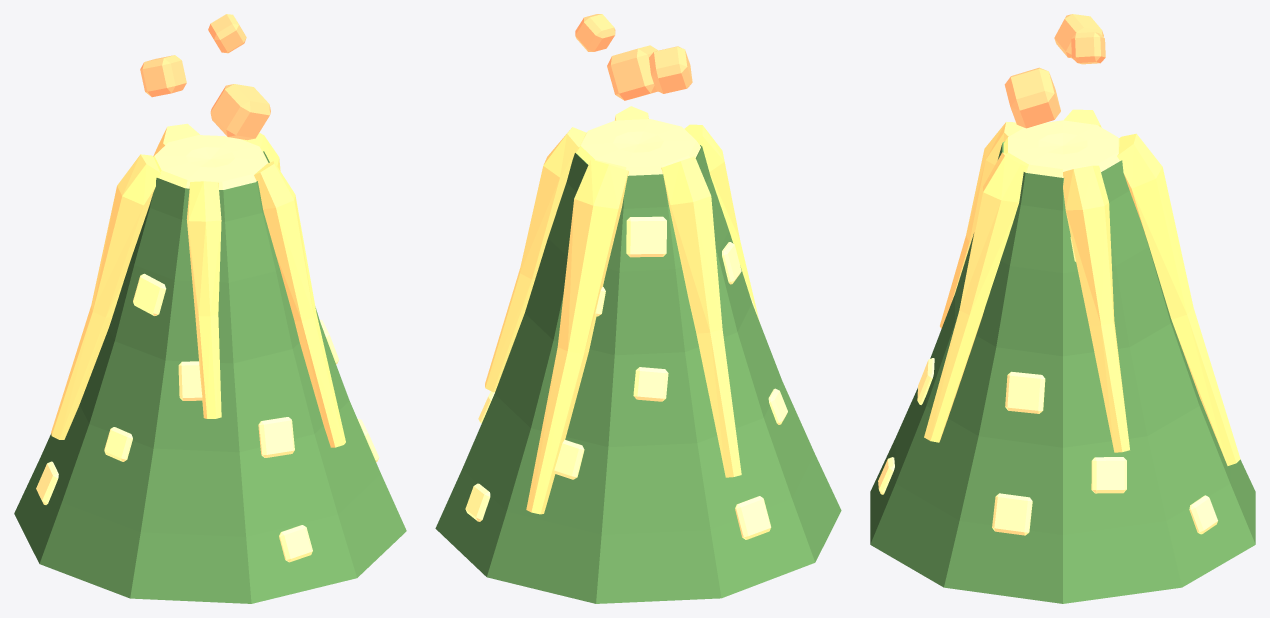
The model's file is VolcanoVolcanoCucumber.fbx.
3 renders of one model, left to right at view 1: azimuth 30°, elevation 25°; view 2: azimuth 150°, elevation 25°; view 3: azimuth 270°, elevation 25°, orthographic. The views are drawn at different scales.
Visible parts, largest first — view 1: VolcanoVolcanoCucumber.Cone, VolcanoVolcanoCucumber.Flows, VolcanoVolcanoCucumber.Studs, VolcanoVolcanoCucumber.Ejecta, VolcanoVolcanoCucumber.Crater; view 2: VolcanoVolcanoCucumber.Cone, VolcanoVolcanoCucumber.Flows, VolcanoVolcanoCucumber.Studs, VolcanoVolcanoCucumber.Crater, VolcanoVolcanoCucumber.Ejecta; view 3: VolcanoVolcanoCucumber.Cone, VolcanoVolcanoCucumber.Flows, VolcanoVolcanoCucumber.Studs, VolcanoVolcanoCucumber.Crater, VolcanoVolcanoCucumber.Ejecta.
Part boxes in pixels (bbox=[...]): VolcanoVolcanoCucumber.Cone: bbox=[14, 151, 406, 603]; VolcanoVolcanoCucumber.Flows: bbox=[51, 123, 345, 447]; VolcanoVolcanoCucumber.Studs: bbox=[36, 273, 379, 562]; VolcanoVolcanoCucumber.Ejecta: bbox=[140, 14, 270, 140]; VolcanoVolcanoCucumber.Crater: bbox=[153, 135, 268, 189]; VolcanoVolcanoCucumber.Cone: bbox=[435, 145, 841, 603]; VolcanoVolcanoCucumber.Flows: bbox=[485, 106, 758, 514]; VolcanoVolcanoCucumber.Studs: bbox=[465, 216, 787, 539]; VolcanoVolcanoCucumber.Crater: bbox=[576, 119, 700, 175]; VolcanoVolcanoCucumber.Ejecta: bbox=[575, 14, 692, 100]; VolcanoVolcanoCucumber.Cone: bbox=[870, 141, 1255, 603]; VolcanoVolcanoCucumber.Flows: bbox=[924, 109, 1240, 465]; VolcanoVolcanoCucumber.Studs: bbox=[878, 237, 1217, 535]; VolcanoVolcanoCucumber.Crater: bbox=[1003, 120, 1119, 177]; VolcanoVolcanoCucumber.Ejecta: bbox=[1004, 14, 1105, 128].
Bounding box in the file's own units: 3.5 × 4.78 × 3.33.
